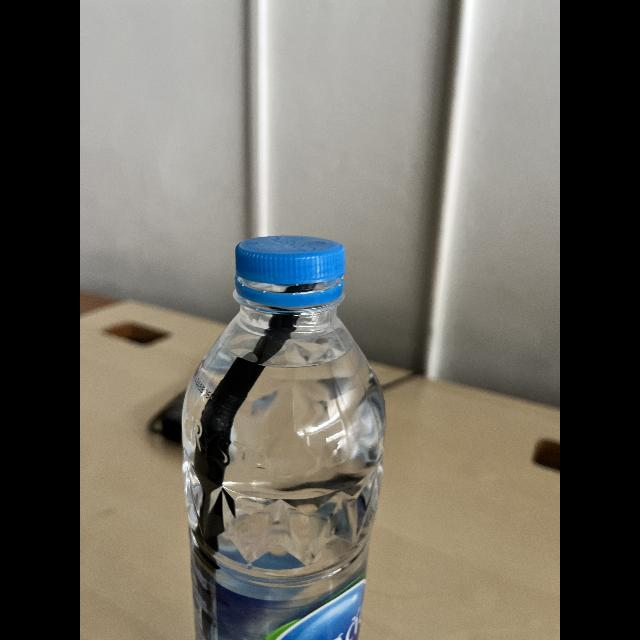plastic_bottle_cap: (225, 220, 348, 288)
